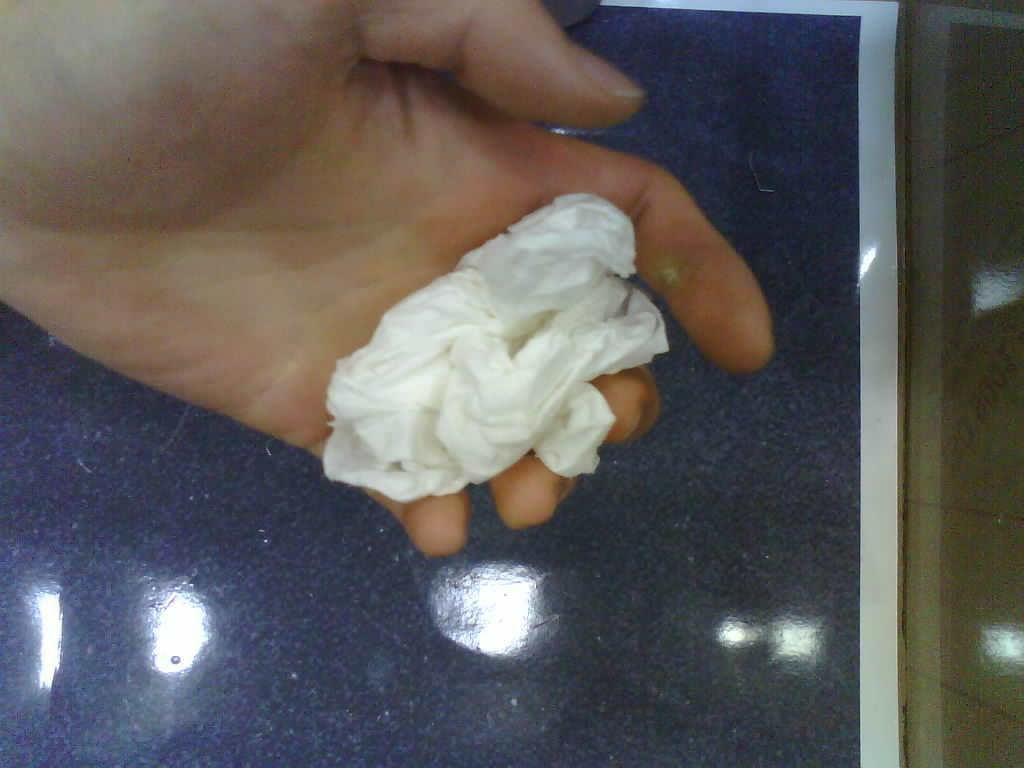paper: (324, 194, 668, 502)
